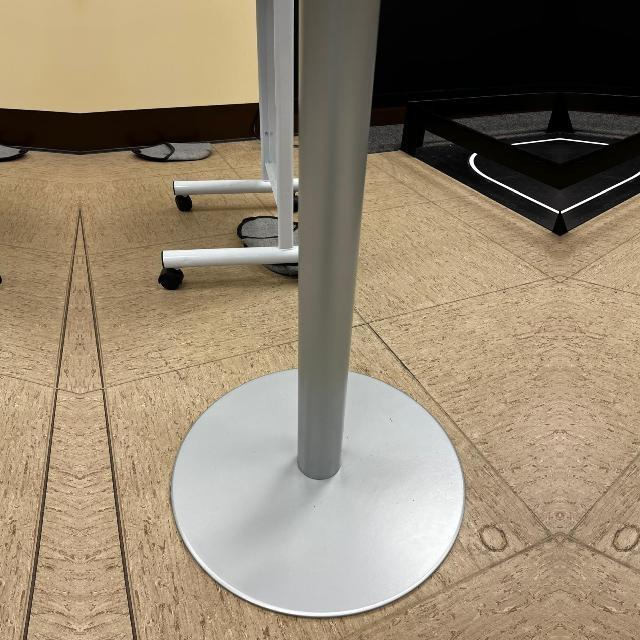obstacle: (166, 235, 492, 620), (628, 235, 640, 620)
